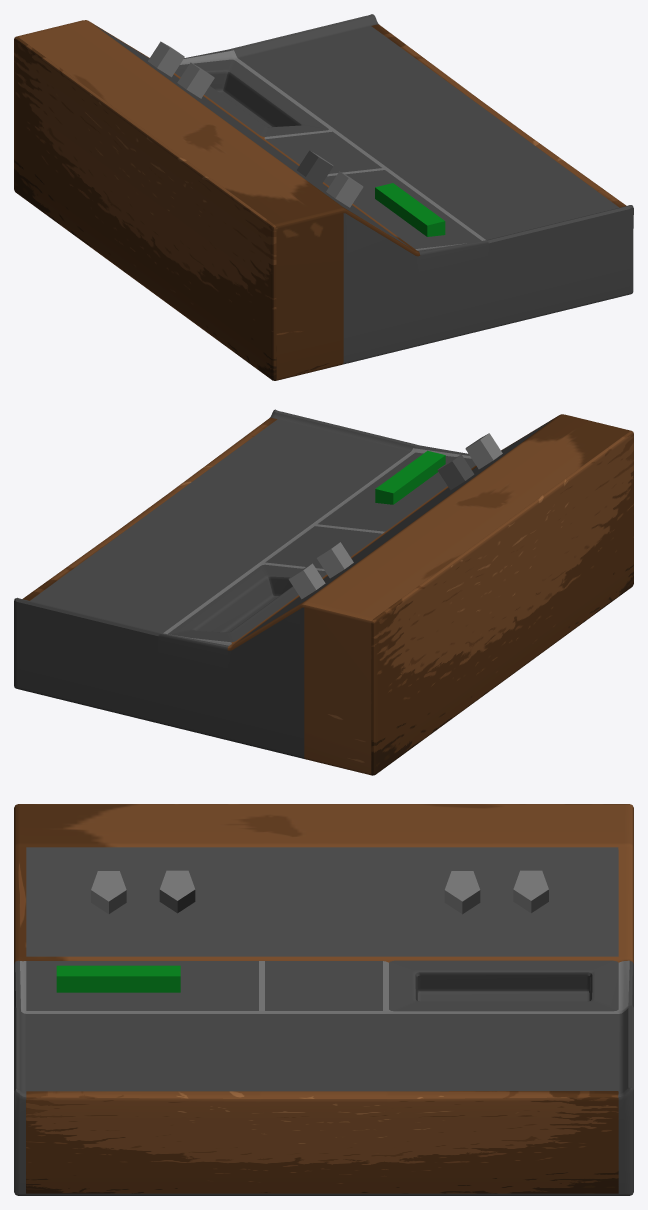
File: concolse.fbx
3 views of the same model, one above another, from view 1: azimuth 30°, elevation 25°; view 2: azimuth 150°, elevation 25°; view 3: azimuth 270°, elevation 25° (orthographic). The views are drawn at different scales.
Visible parts, largest first — view 1: concloes, booton, switch4, switch1, switch3, switch2; view 2: concloes, booton, switch1, switch4, switch3, switch2; view 3: concloes, booton, switch4, switch2, switch1, switch3.
Boxes of the visible parts, x1,y1,x2,y2 form: concloes: (14,14,633,380); booton: (375,183,445,236); switch4: (177,62,214,98); switch1: (326,171,363,207); switch3: (148,41,184,77); switch2: (297,150,333,185); concloes: (14,409,633,775); booton: (375,450,445,504); switch1: (465,433,502,469); switch4: (316,542,353,578); switch3: (288,563,325,599); switch2: (437,454,474,490); concloes: (14,804,633,1195); booton: (56,965,180,992); switch4: (444,871,480,914); switch2: (159,870,195,913); switch1: (91,871,126,914); switch3: (513,870,548,913).
Size of the model in its own units: 4 by 1.65 by 5.
